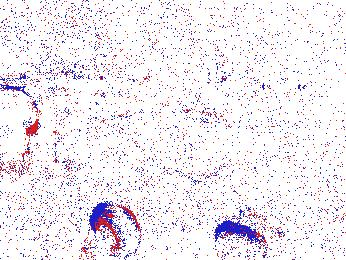flame jellyfish: (213, 205, 285, 260), (1, 88, 42, 182), (80, 203, 142, 260)
